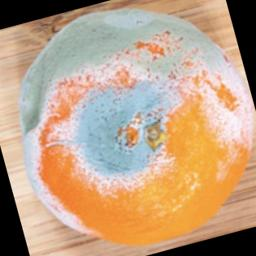Orange Rotten: (11, 6, 256, 251)
